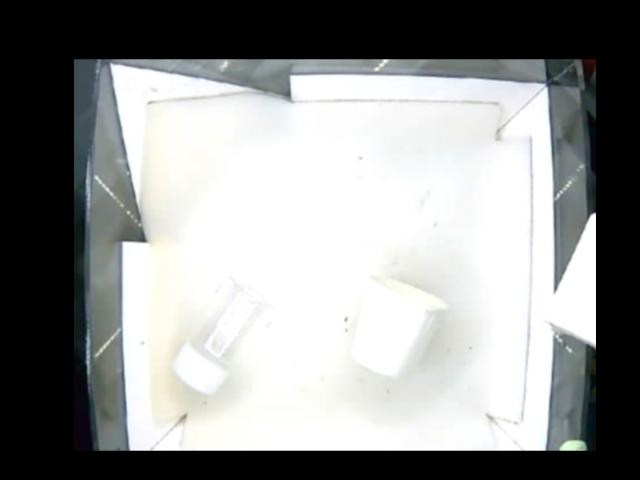Bottle: (170, 273, 273, 393)
Cup: (349, 277, 449, 380)
